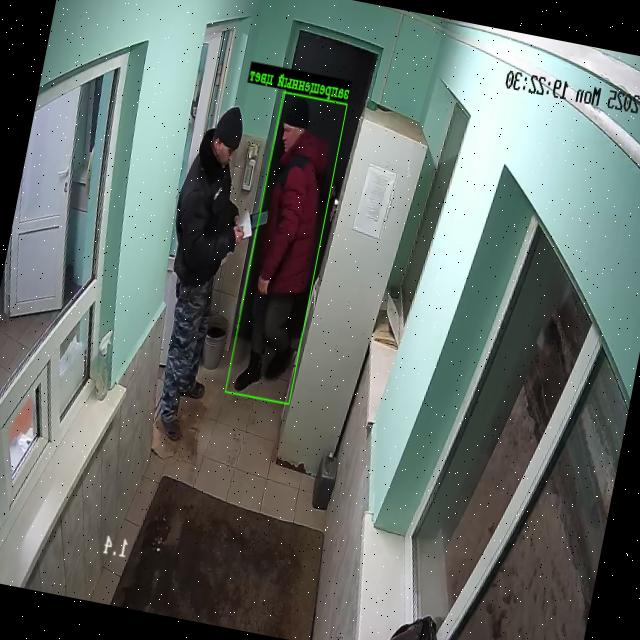Person: (158, 107, 245, 441)
Red uniform: (234, 98, 328, 391)
